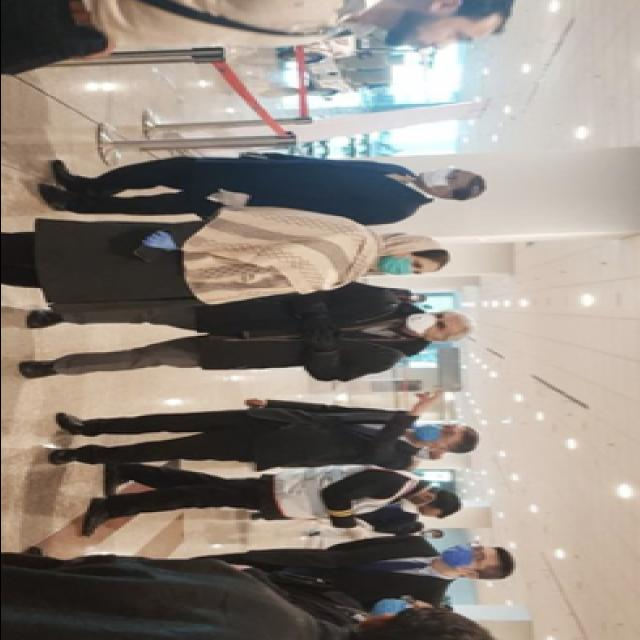with_mask: (442, 546, 494, 572), (366, 598, 424, 621), (405, 312, 452, 338), (416, 422, 462, 447), (420, 170, 468, 192), (382, 256, 428, 277), (399, 498, 434, 520)
without_mask: (389, 18, 483, 52)
